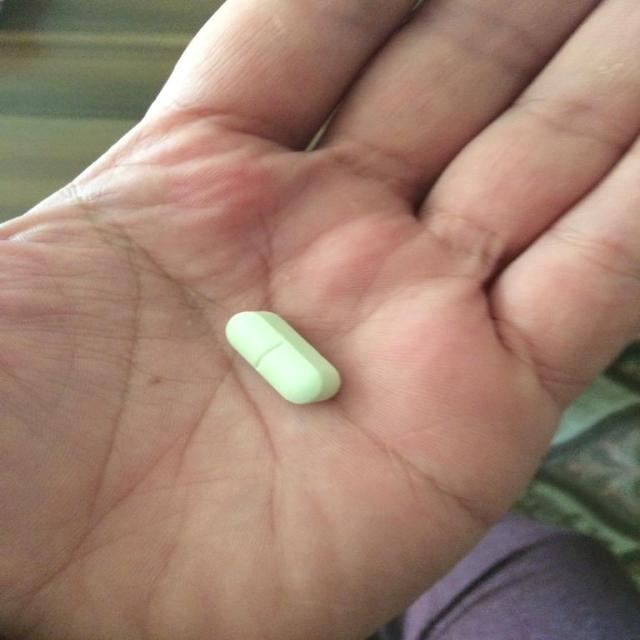pills: (212, 288, 352, 421)
